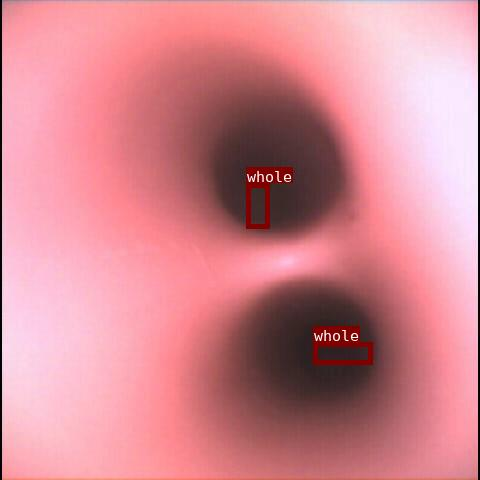whole: (313, 342, 372, 364), (246, 183, 269, 228)
